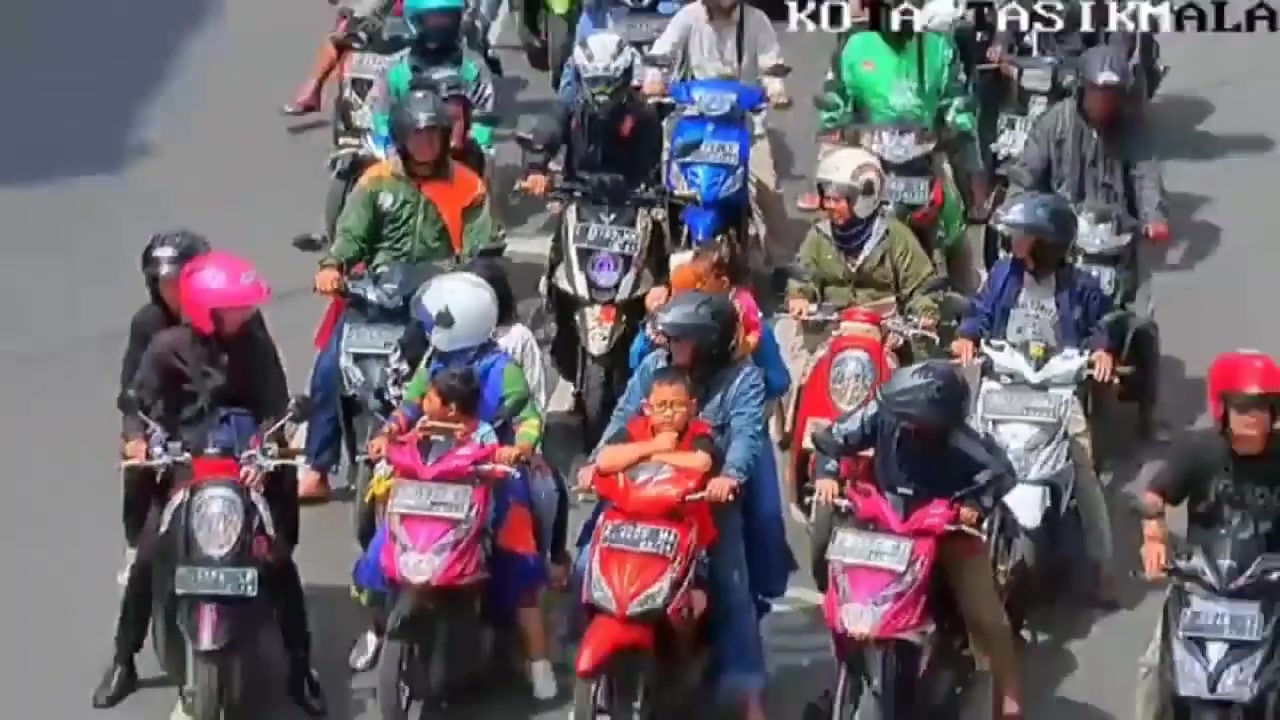person with helmet: (171, 239, 281, 375), (988, 179, 1079, 298)
person with motorcycle: (149, 253, 308, 708), (969, 183, 1108, 582), (581, 363, 725, 688), (395, 363, 502, 656)
person without helm: (405, 361, 485, 459), (639, 368, 712, 456)
